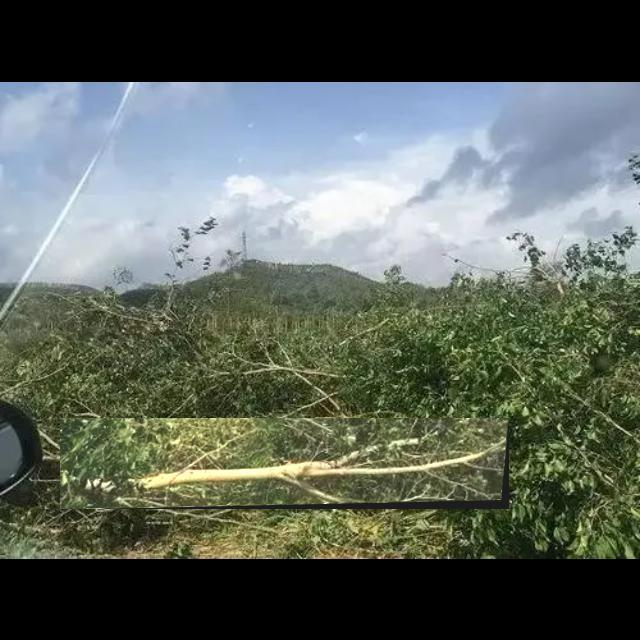fallen_tree: (60, 418, 510, 510)
